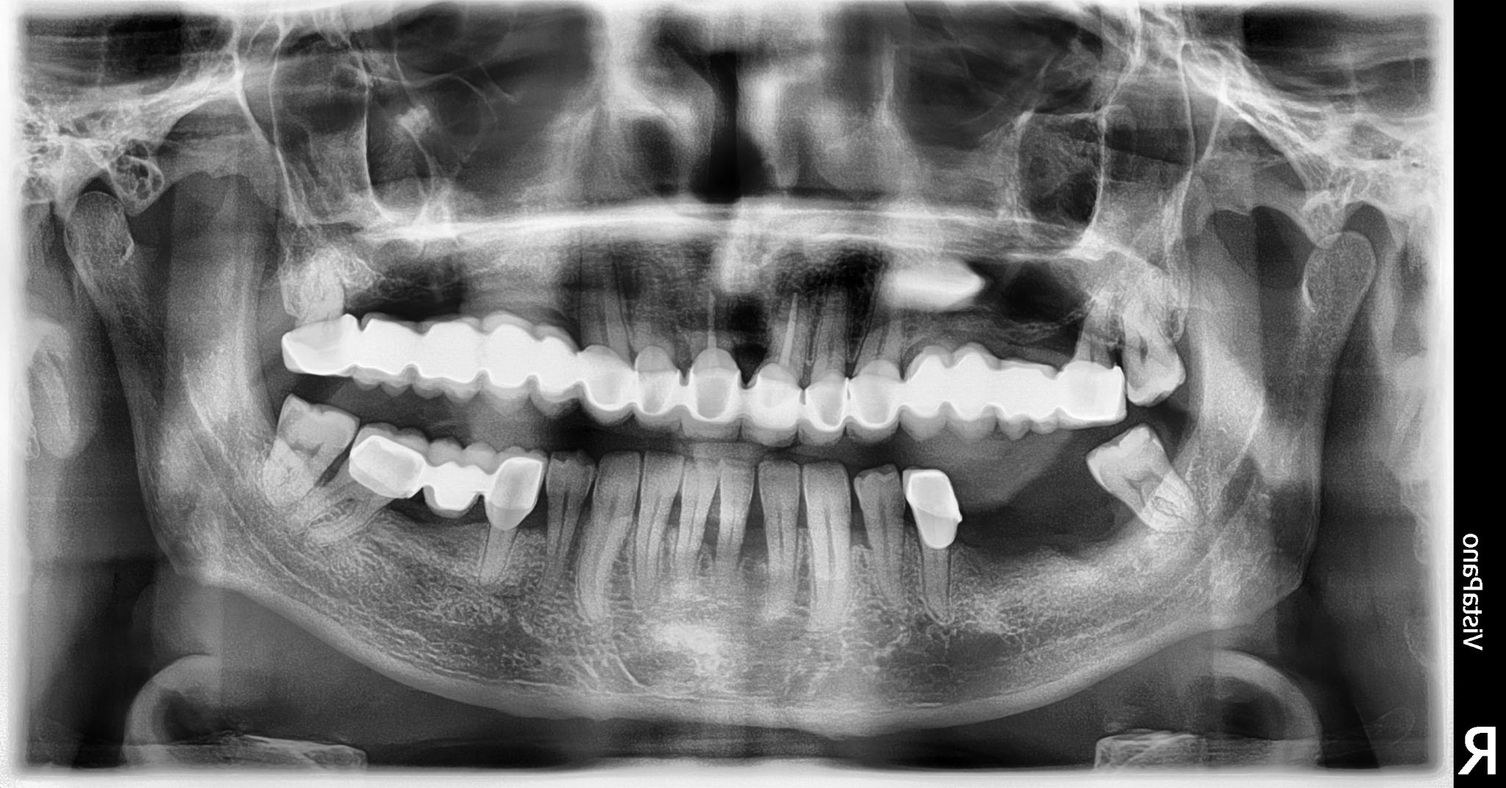Premolars: (607, 252, 1506, 671)
